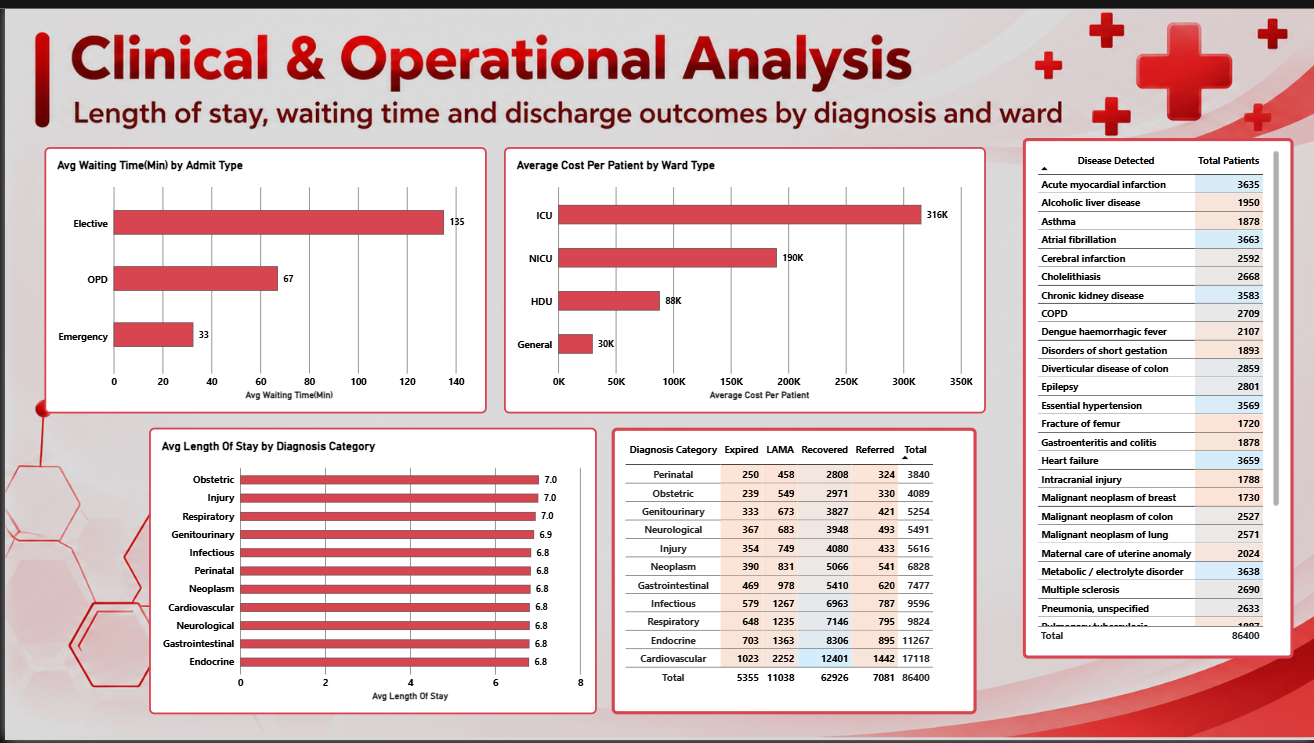

The page's visual inventory and layout, read from the dashboard file:
{"tool":"powerbi","page":{"name":"Clinical and Ops ","canvas":[1920,1080],"ordinal":1},"visuals":[{"type":"clusteredBarChart","fields":{"Category":["HEALTHCARE.Diagnosis Category"],"Y":["HEALTHCARE.Avg Length Of Stay"]},"box":[210,622,656,420],"z":0},{"type":"clusteredBarChart","fields":{"Category":["HEALTHCARE.Ward Type"],"Y":["HEALTHCARE.Average Cost Per Patient"]},"box":[732,212,706,390],"z":1000},{"type":"clusteredBarChart","fields":{"Category":["HEALTHCARE.Admit Type"],"Y":["HEALTHCARE.Avg Waiting Time(Min)"]},"box":[58,212,648,390],"z":2000},{"type":"pivotTable","fields":{"Columns":["HEALTHCARE.Discharge Type"],"Rows":["HEALTHCARE.Diagnosis Category"],"Values":["HEALTHCARE.Total Patients"]},"box":[888,622,535,420],"z":3000},{"type":"tableEx","fields":{"Values":["HEALTHCARE.Disease Detected","HEALTHCARE.Total Patients"]},"box":[1490,197.1,397.1,762.9],"z":4000}]}

Visuals, with their boxes in screenshot pixels (x1, y1, x2, y2), scaled from the page's 1920x1080 canvas onto the 1314x743 screenshot:
clusteredBarChart - HEALTHCARE.Diagnosis Category x HEALTHCARE.Avg Length Of Stay: (left=144, top=428, right=593, bottom=717)
clusteredBarChart - HEALTHCARE.Ward Type x HEALTHCARE.Average Cost Per Patient: (left=501, top=146, right=984, bottom=414)
clusteredBarChart - HEALTHCARE.Admit Type x HEALTHCARE.Avg Waiting Time(Min): (left=40, top=146, right=483, bottom=414)
pivotTable - HEALTHCARE.Discharge Type x HEALTHCARE.Diagnosis Category: (left=608, top=428, right=974, bottom=717)
tableEx - HEALTHCARE.Disease Detected x HEALTHCARE.Total Patients: (left=1020, top=136, right=1291, bottom=660)
